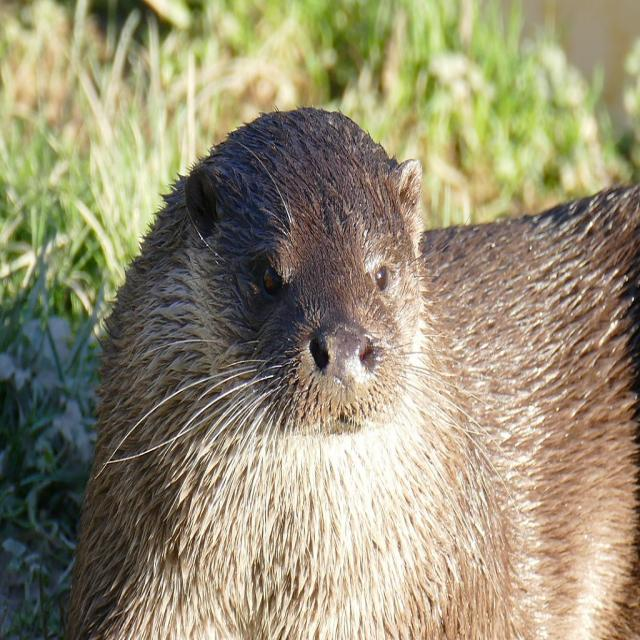otter: (82, 109, 640, 640)
